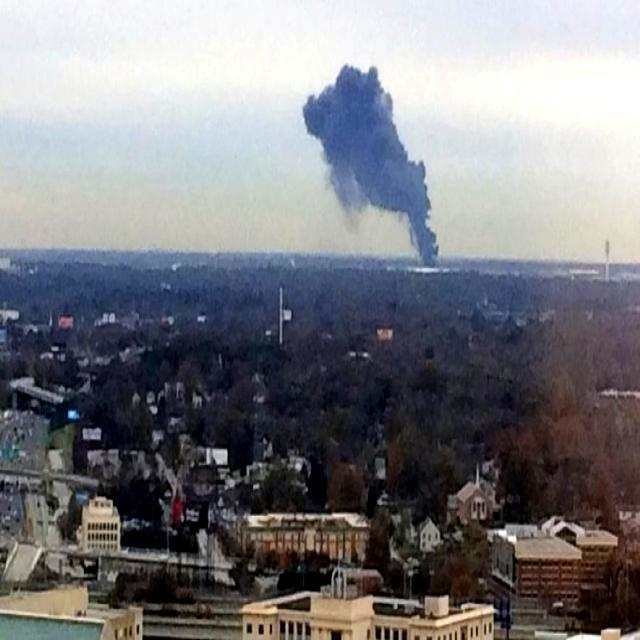Smoke: (309, 58, 447, 266)
